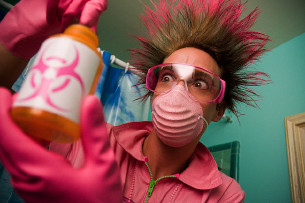face_mask: (152, 47, 216, 146)
